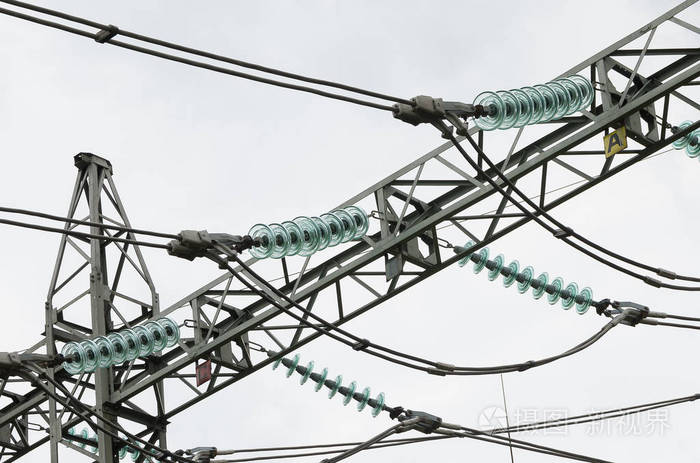insulator: (456, 239, 593, 314), (273, 353, 387, 418), (475, 74, 594, 133), (64, 315, 182, 374), (247, 207, 368, 261), (64, 426, 153, 460), (670, 119, 700, 161)
